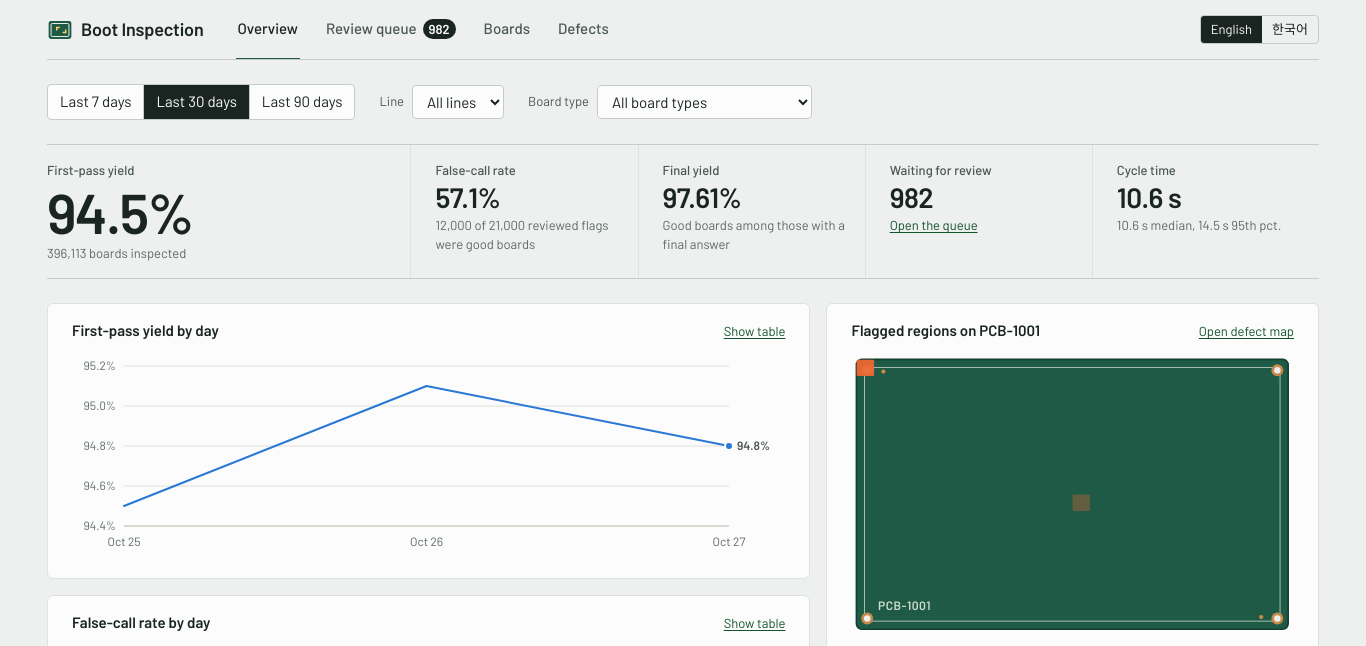
Overview › switches the whole screen to Korean
Expected: the text "94.5%" is shown, [47,178,192,245]
Click the button "한국어": (1290, 30) [1262,16,1318,43]
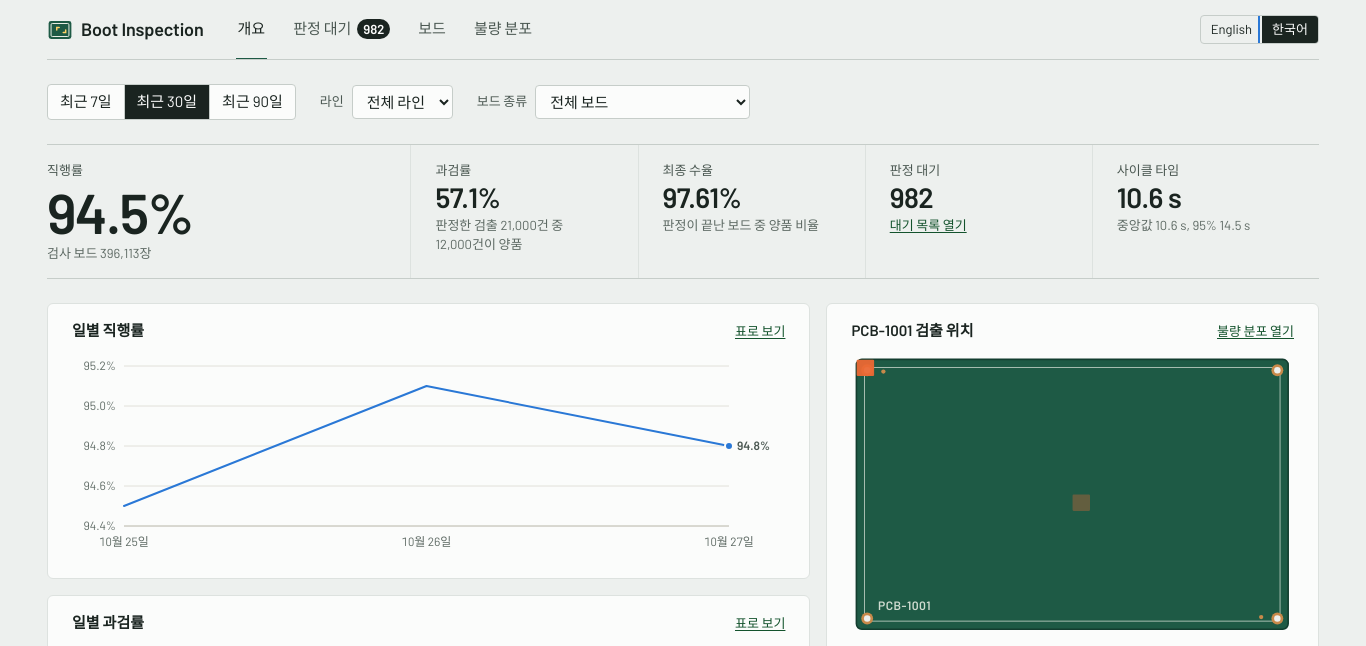
Expected: the heading "직행률" is shown, [47,162,83,178]
Expected: the heading "과검률" is shown, [435,162,471,178]
